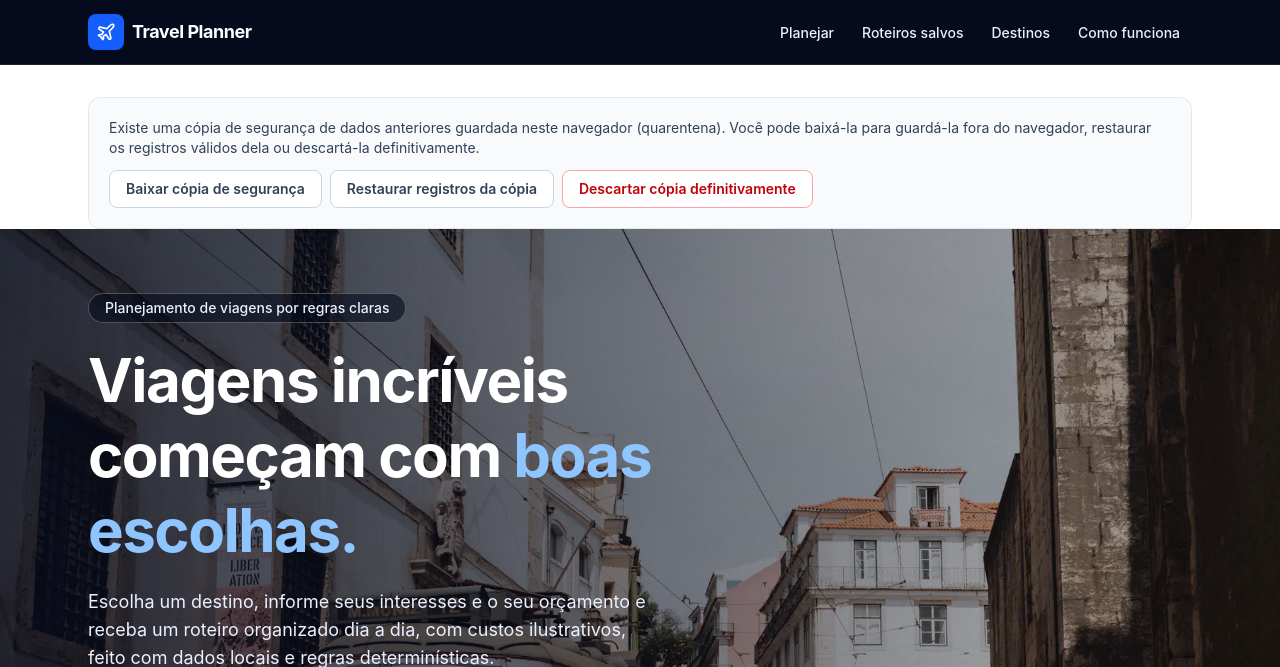
Test: HomePage — interações de persistência (P3) › restauração da quarentena com a lista vazia: confirmação, registros na lista e cópia mantida
Click the button "Restaurar registros da cópia" at [442, 189], box [330, 170, 554, 208]
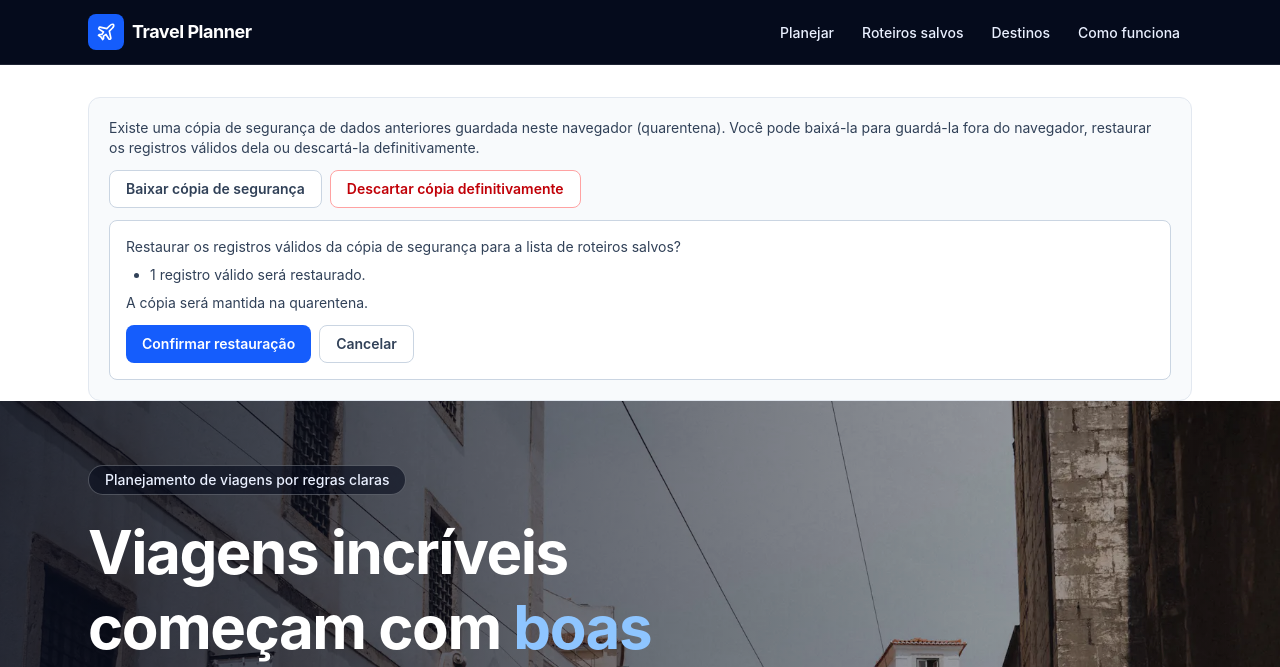
Click the button "Confirmar restauração" at [219, 344], box [126, 325, 311, 363]
(page scrolled)
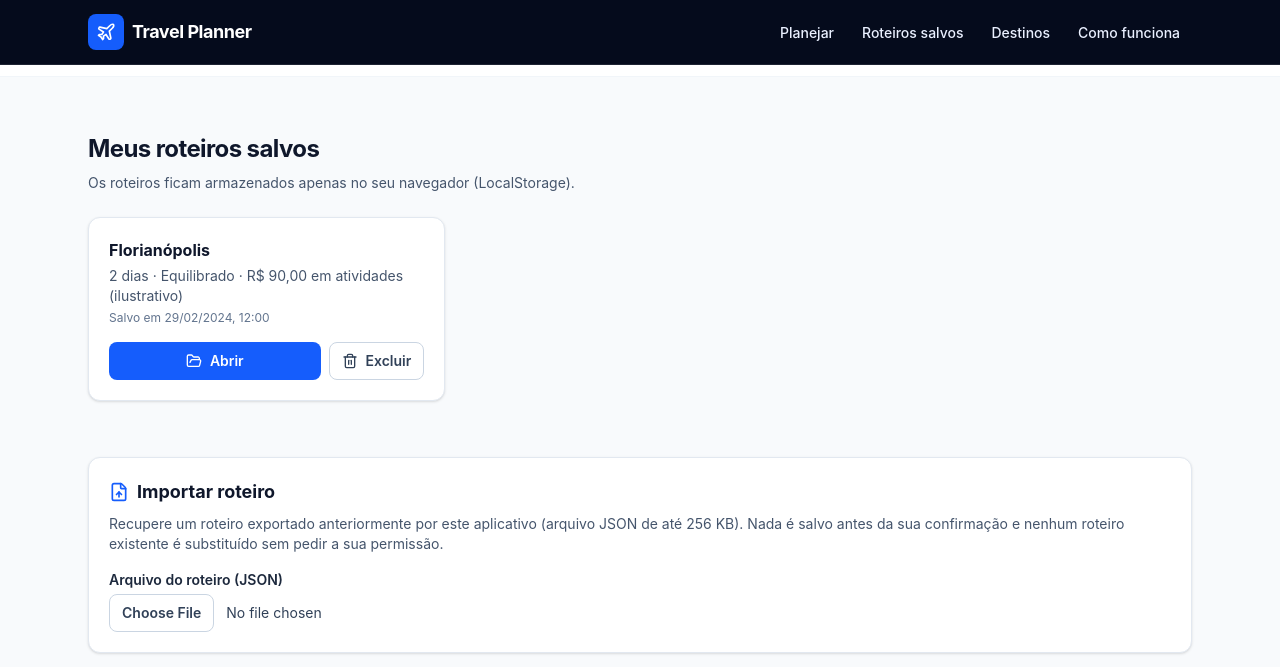
Check: the button with aria-label "Excluir roteiro de Florianópolis" is shown, box [329, 342, 424, 380]
